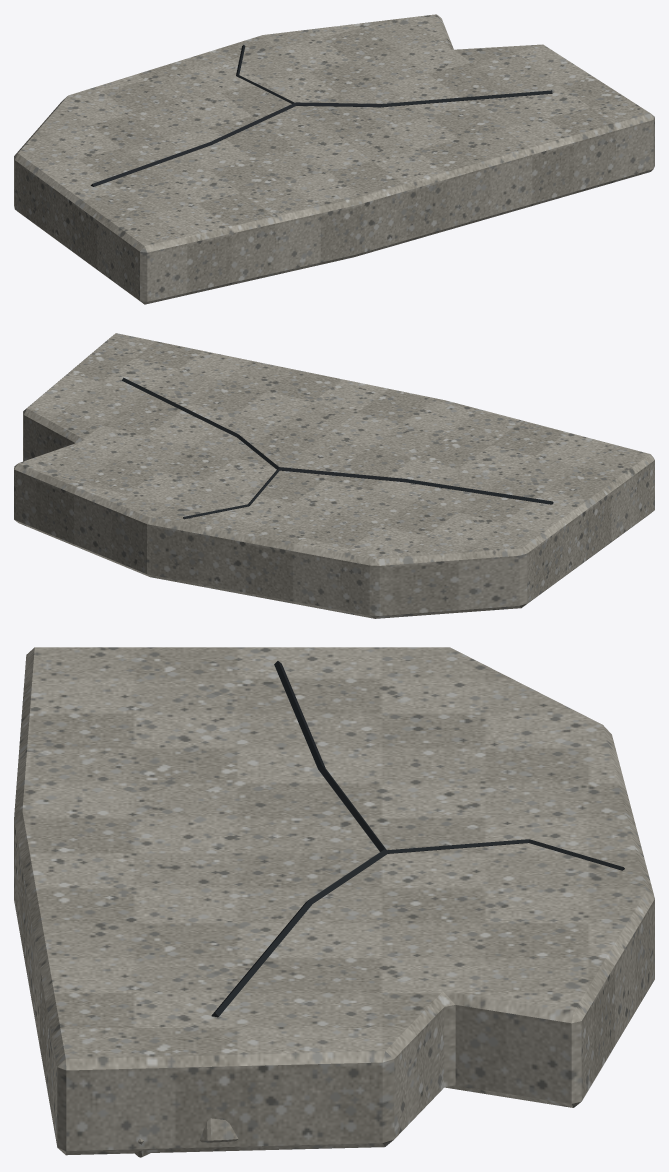
The model's file is cracked_slab_01.glb.
3 renders of one model, top to bottom at view 1: azimuth 30°, elevation 25°; view 2: azimuth 150°, elevation 25°; view 3: azimuth 270°, elevation 25°, orthographic. The views are drawn at different scales.
Parts seen in each view (by area): view 1: cracked_slab_01__m7_concrete, cracked_slab_01__m7_dark_polymer; view 2: cracked_slab_01__m7_concrete, cracked_slab_01__m7_dark_polymer; view 3: cracked_slab_01__m7_concrete, cracked_slab_01__m7_dark_polymer.
Boxes of the visible parts, x1,y1,x2,y2 form: cracked_slab_01__m7_concrete: (14,14,654,304); cracked_slab_01__m7_dark_polymer: (90,45,552,186); cracked_slab_01__m7_concrete: (14,333,654,618); cracked_slab_01__m7_dark_polymer: (122,377,553,519); cracked_slab_01__m7_concrete: (14,647,654,1157); cracked_slab_01__m7_dark_polymer: (211,661,624,1017).
Size of the model in its own units: 1.5 by 0.1746 by 0.969.
2 materials, 1 textured.
